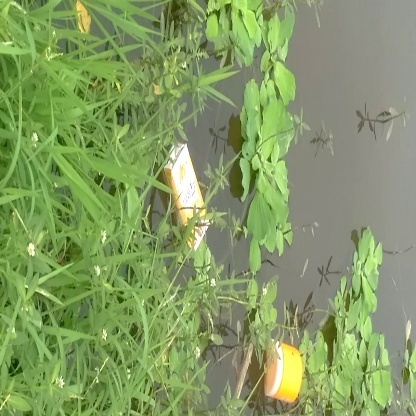bottle: (261, 329, 307, 402)
milk-box: (157, 133, 219, 250)
